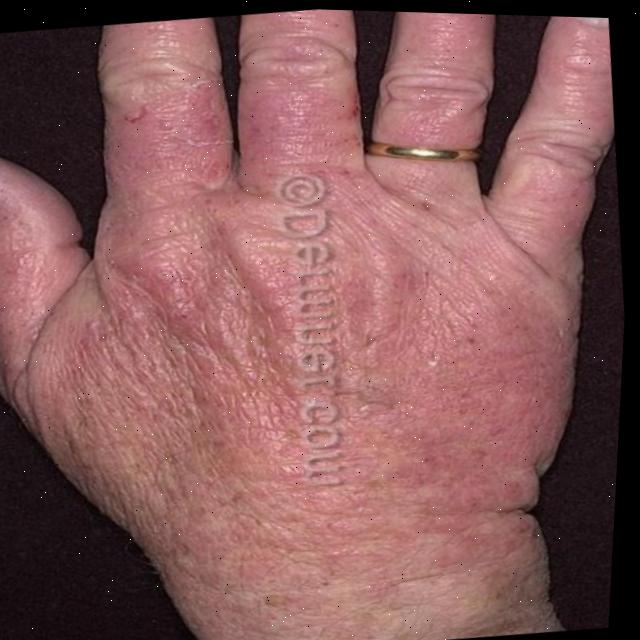Eczema: (0, 12, 597, 609)
